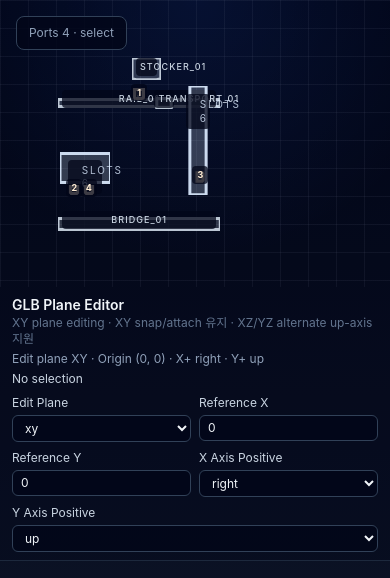
TopViewCanvas › lets users pan the top-view reference frame by dragging empty canvas space
Press the mouse on the element with class "editor-grid" at (195, 144), box [0, 0, 389, 287]
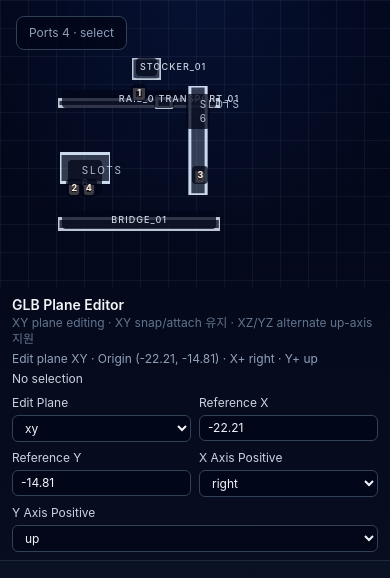
Now the number field labelled "Reference X" holds "-22.21", box [199, 415, 378, 441]
Now the number field labelled "Reference Y" holds "-14.81", box [12, 470, 191, 496]
